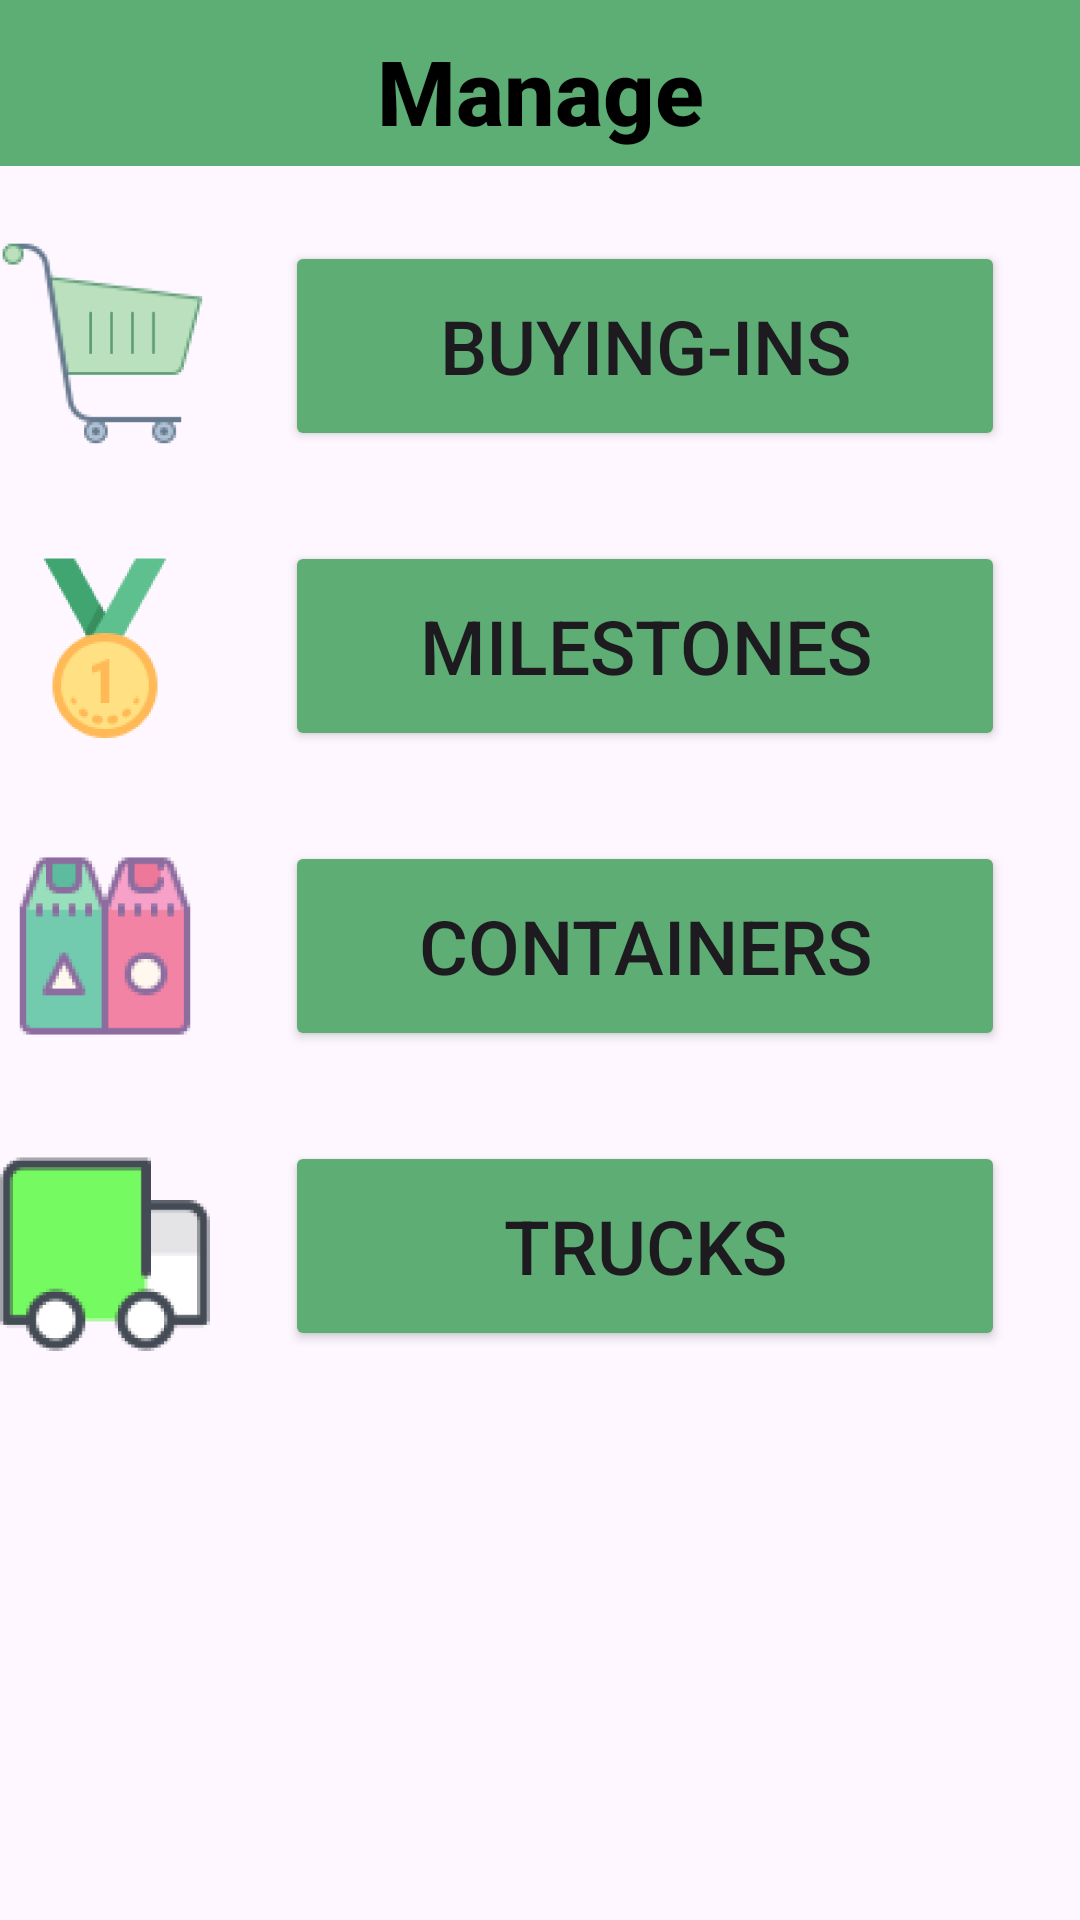

Where to tap for icons on this 1080×1920 app screen, as (x,y):
achievem: (105,648)
